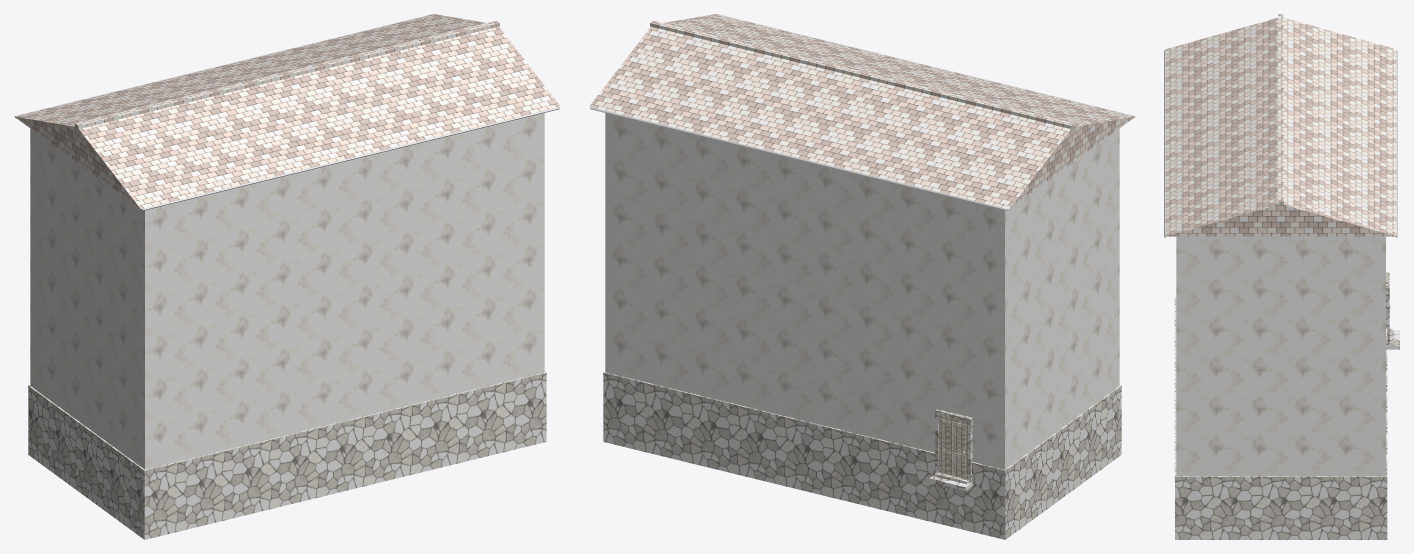
3 views of the same model, side by side, from view 1: azimuth 30°, elevation 25°; view 2: azimuth 150°, elevation 25°; view 3: azimuth 270°, elevation 25° (orthographic). The views are drawn at different scales.
Visible parts, largest first — view 1: b1085384687; view 2: b1085384687; view 3: b1085384687.
Boxes of the visible parts, x1,y1,x2,y2 form: b1085384687: (14,14,560,539); b1085384687: (589,14,1135,539); b1085384687: (1164,14,1399,539).
Size of the model in its own units: 14.36 by 12.22 by 7.62.
Materials: 11 (11 with a texture image).
